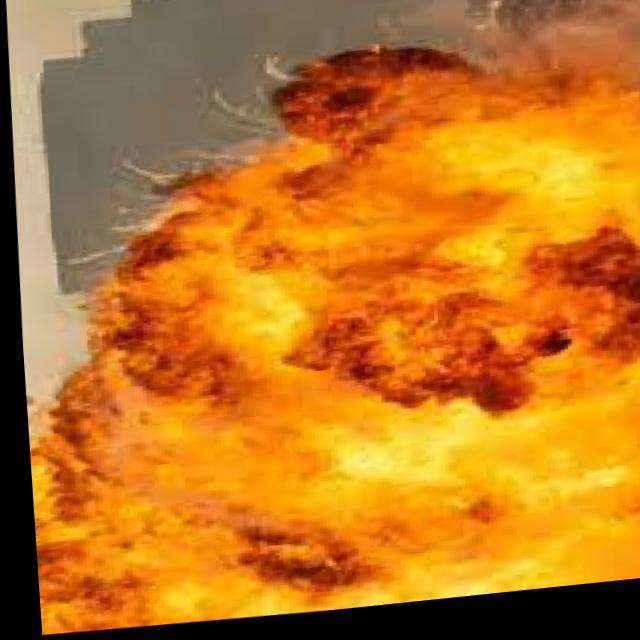Fire: (59, 28, 640, 628)
